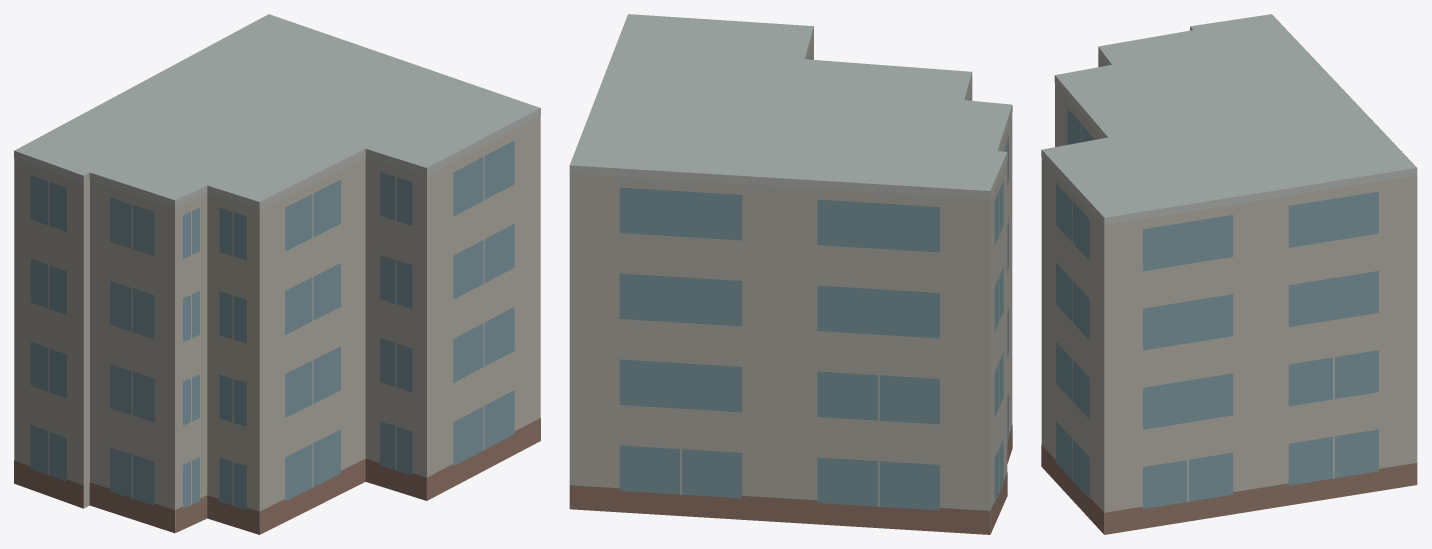
File: survey-upis-32584855.glb
3 views of the same model, side by side, from view 1: azimuth 30°, elevation 25°; view 2: azimuth 150°, elevation 25°; view 3: azimuth 270°, elevation 25° (orthographic). The views are drawn at different scales.
Parts seen in each view (by area): view 1: survey-upis-32584855.tmp; view 2: survey-upis-32584855.tmp; view 3: survey-upis-32584855.tmp.
Part boxes in pixels (<box>): survey-upis-32584855.tmp: <box>14,14,540,534</box>; survey-upis-32584855.tmp: <box>569,14,1012,534</box>; survey-upis-32584855.tmp: <box>1041,14,1417,534</box>.
Bounding box in the file's own units: 14.49 × 10.5 × 11.29.
